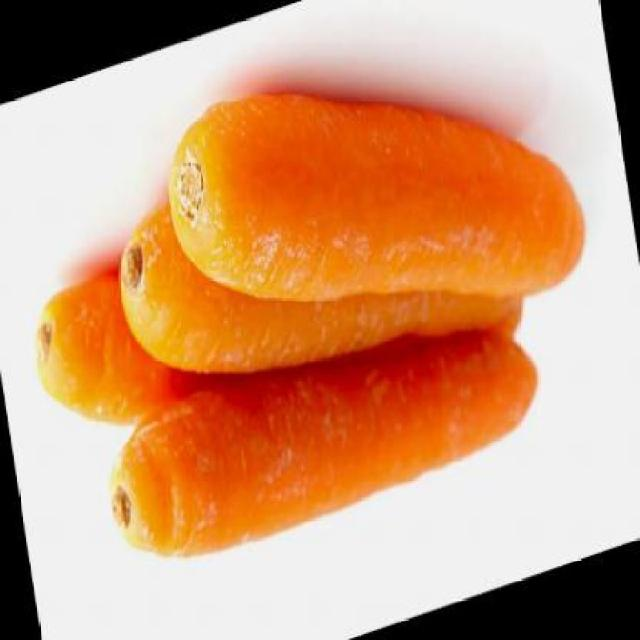carrot: (155, 0, 596, 409), (107, 79, 524, 443), (97, 275, 548, 587), (23, 236, 225, 452)
